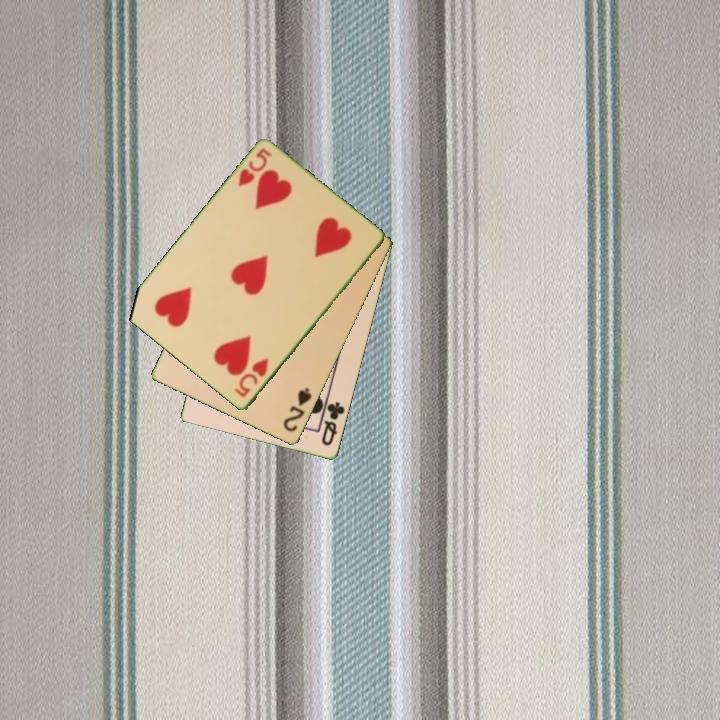2s: (280, 384, 315, 435)
5h: (231, 355, 271, 401), (235, 145, 275, 190)
Qc: (318, 395, 348, 449)
